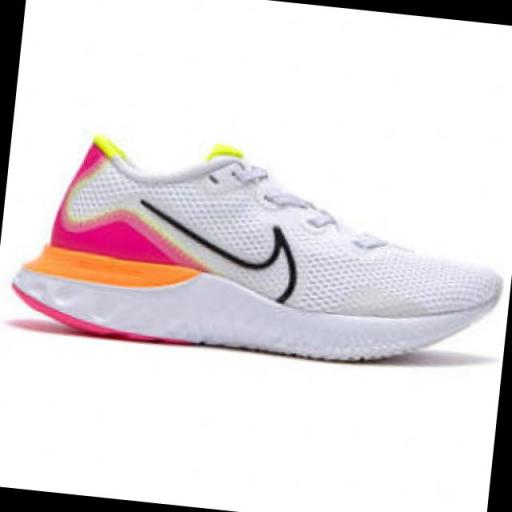Nike: (119, 196, 307, 314)
